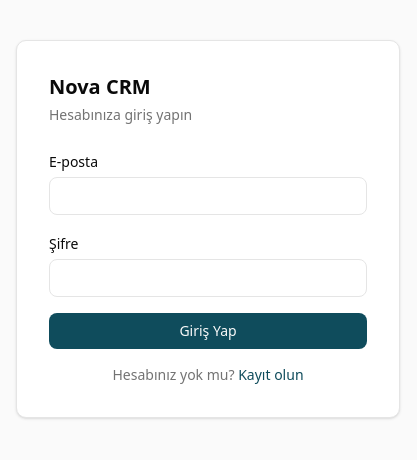
Test: LoginPage › boş form gönderildiğinde doğrulama hatalarını gösterir
Click the button "Giriş Yap" at (208, 331), box [49,313,367,349]
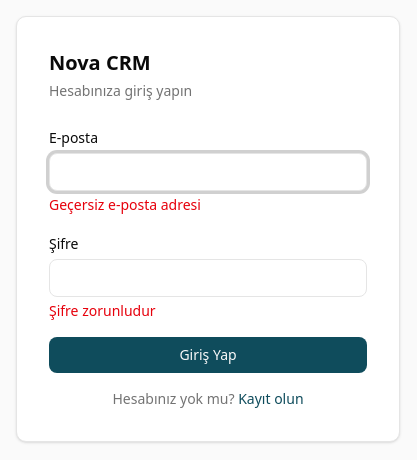
Expected: the text "Geçersiz e-posta adresi" is shown, [49,195,201,214]
Expected: the text "Şifre zorunludur" is shown, [49,301,156,320]
